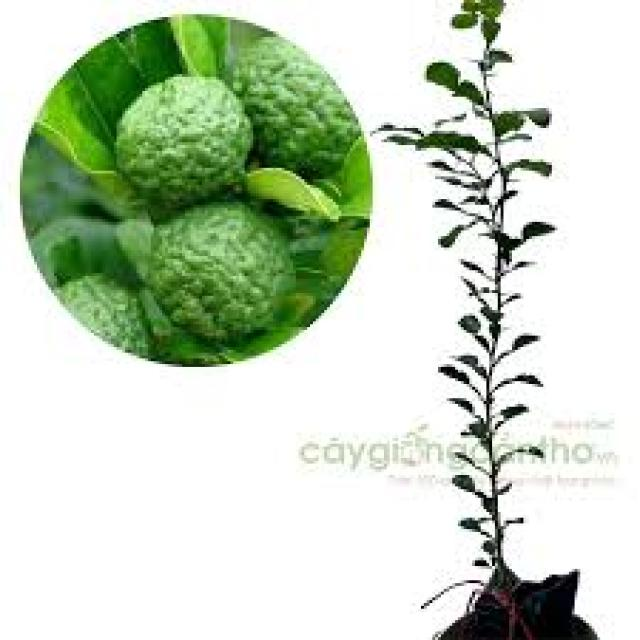Chuc: (142, 196, 296, 344), (225, 31, 361, 179), (111, 71, 253, 211), (43, 273, 147, 373)
